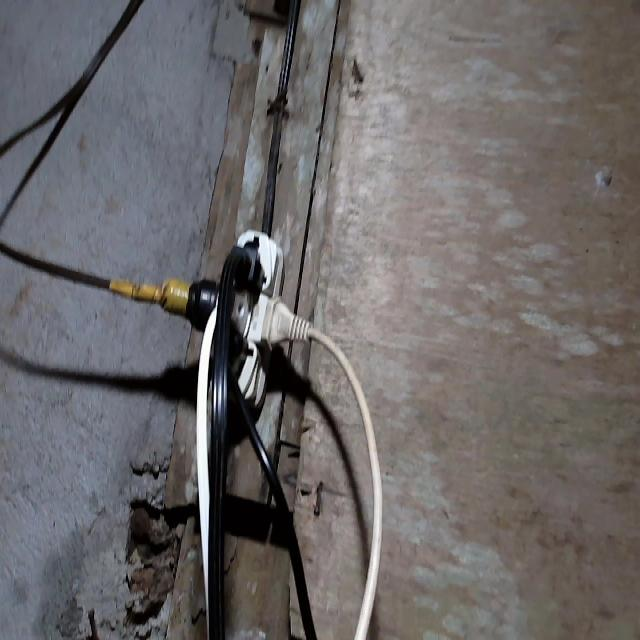-: (154, 224, 302, 409)
